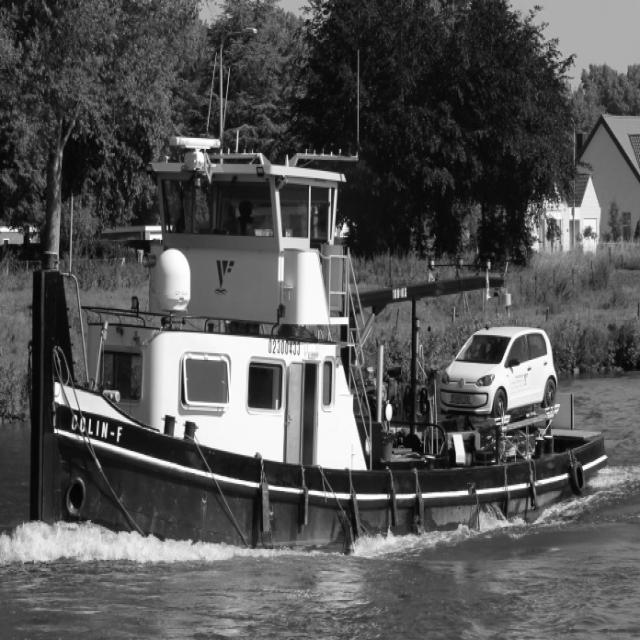tugboat: (24, 44, 613, 575)
